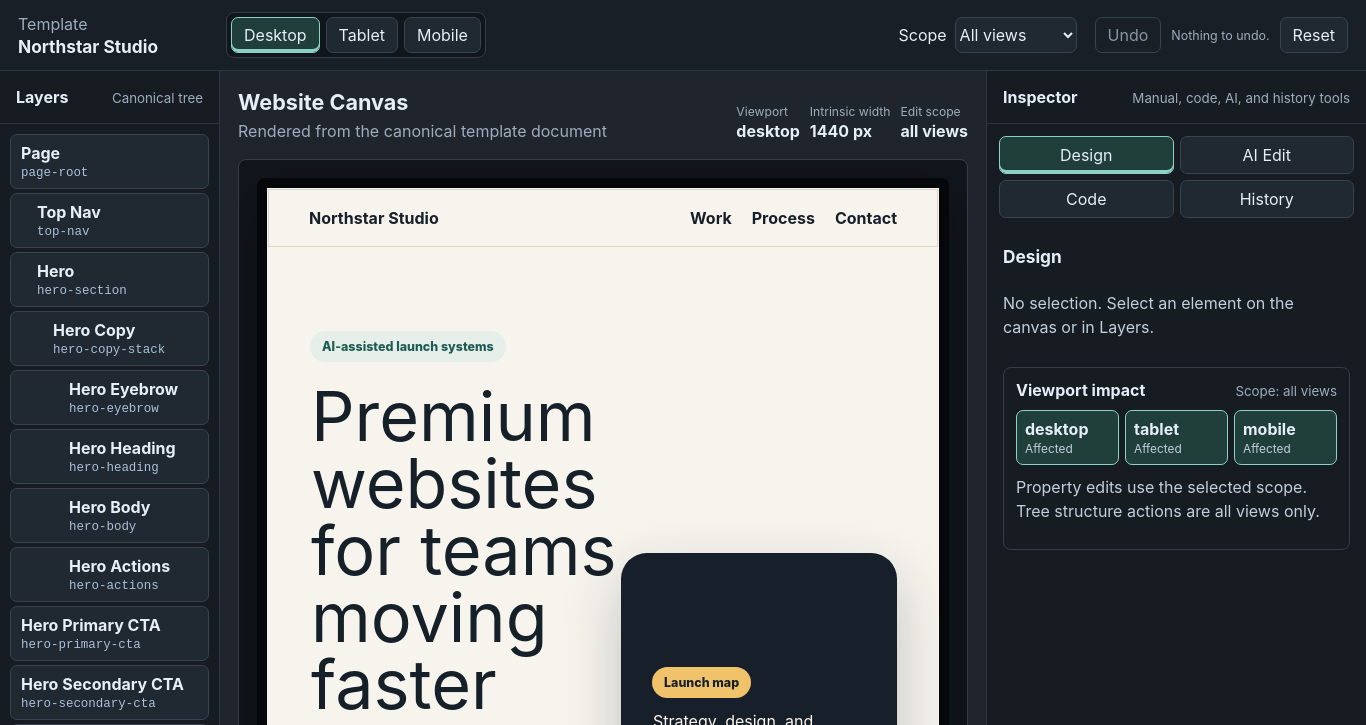
it: EditorShell › switches right-panel tabs
The image size is (1366, 725).
Click the tab "History" at (1267, 199), box [1180,180,1354,218]
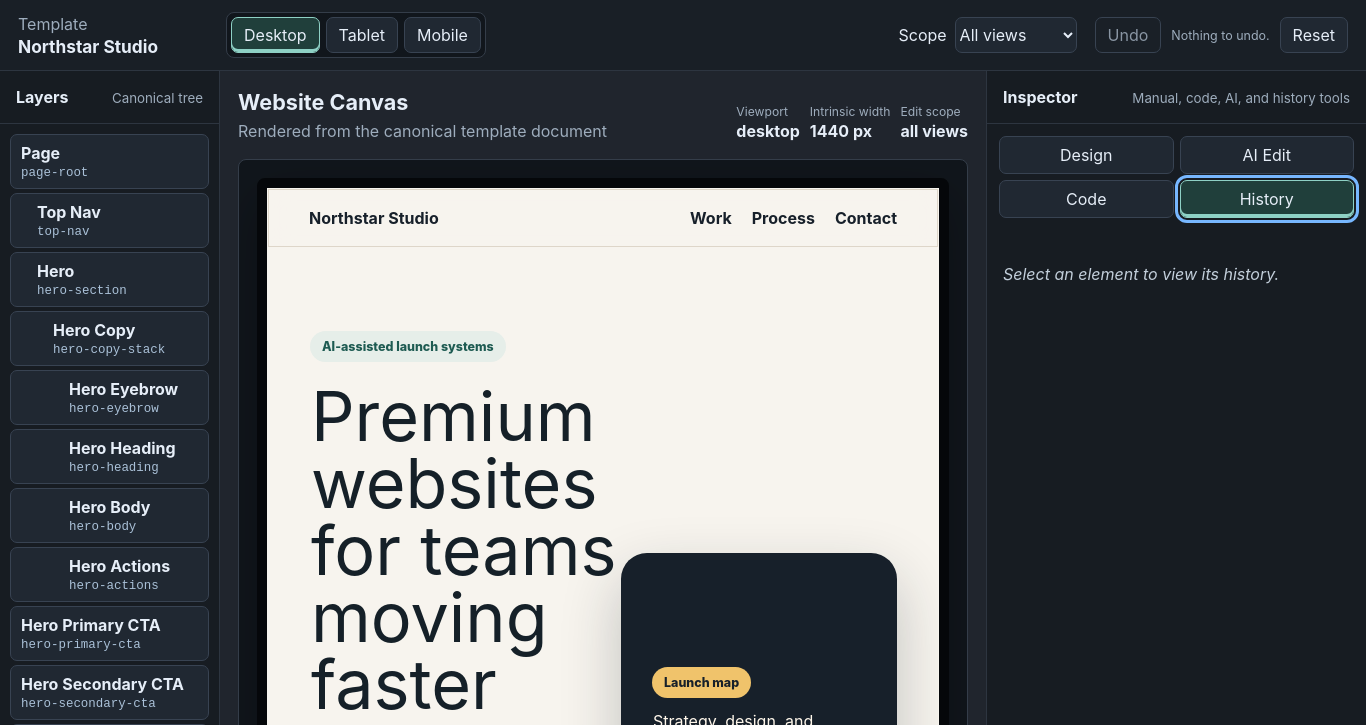
Result: the panel reads "Select an element to view its history." at [1003,264,1279,284]
